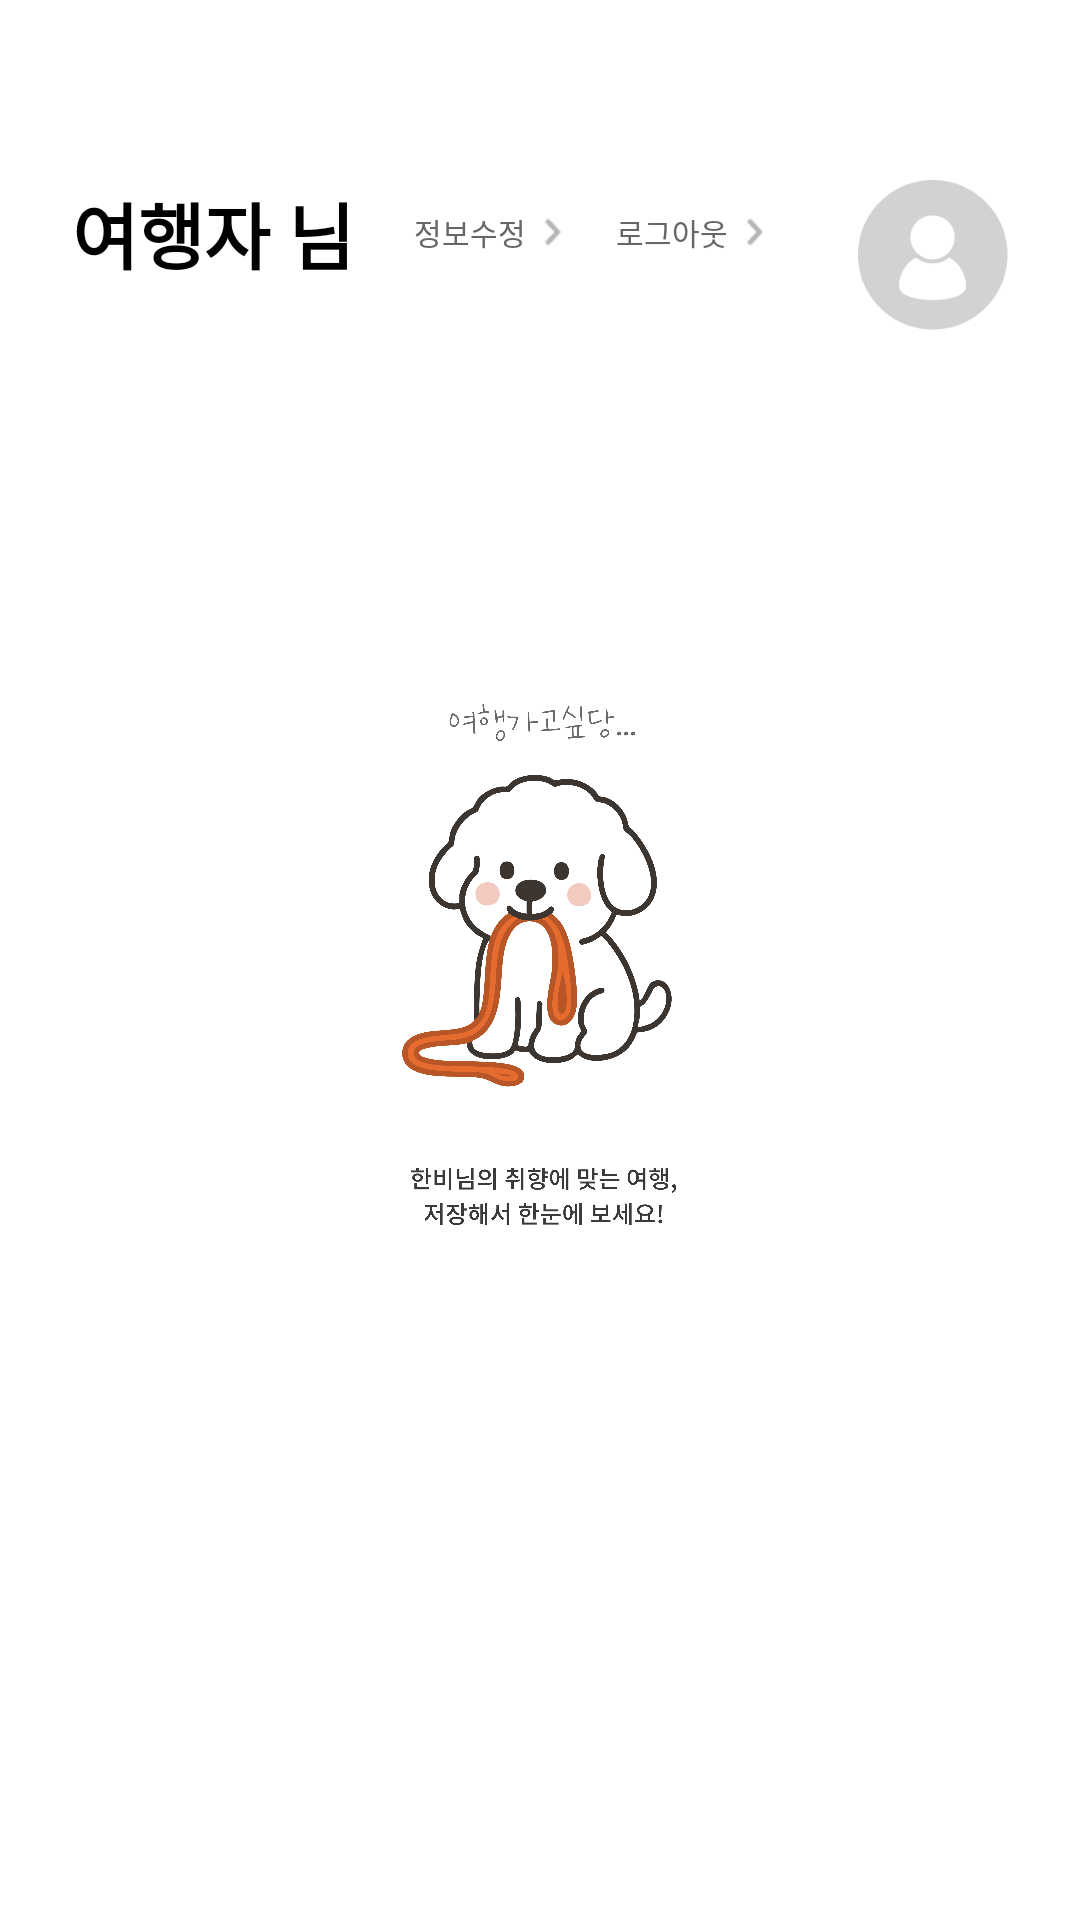

Icons on this 1080×1920 Android screen, each with the point to tap as point (x, y):
profile: point (933, 255)
right arrow: point (553, 232), point (755, 232)
